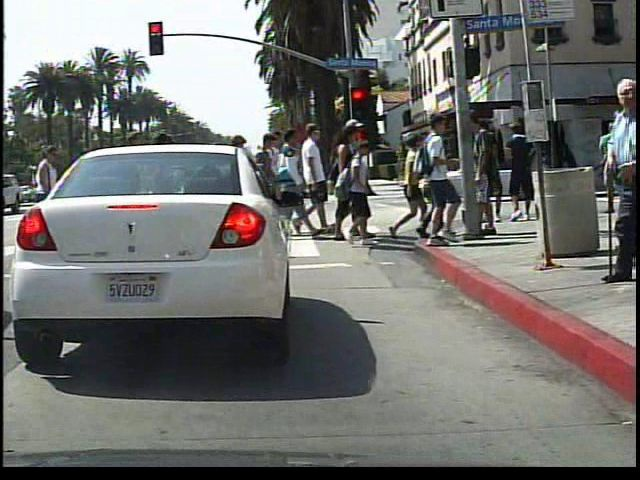person: (574, 74, 639, 287)
